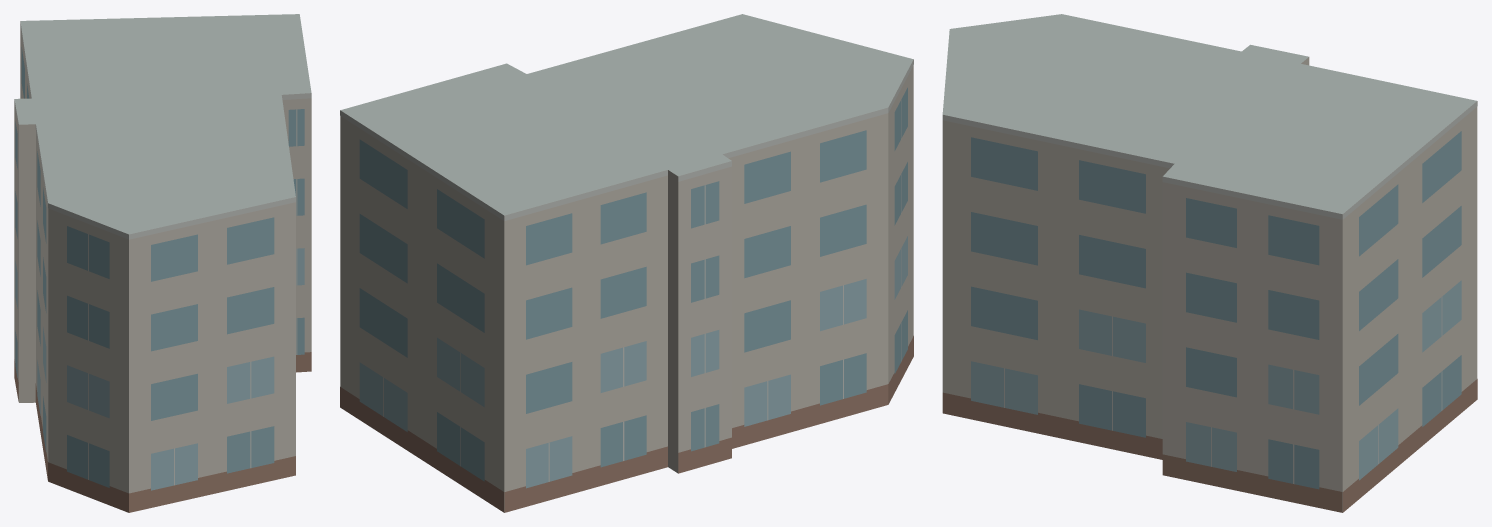
Rendered from survey-upis-33046590.glb.
3 renders of one model, left to right at view 1: azimuth 30°, elevation 25°; view 2: azimuth 150°, elevation 25°; view 3: azimuth 270°, elevation 25°, orthographic. The views are drawn at different scales.
Visible parts, largest first — view 1: survey-upis-33046590.tmp; view 2: survey-upis-33046590.tmp; view 3: survey-upis-33046590.tmp.
Part boxes in pixels (x1,y1,x2,y2): survey-upis-33046590.tmp: (14, 14, 311, 512); survey-upis-33046590.tmp: (340, 14, 913, 512); survey-upis-33046590.tmp: (942, 14, 1477, 512).
Size of the model in its own units: 18.84 by 13.1 by 21.27.
